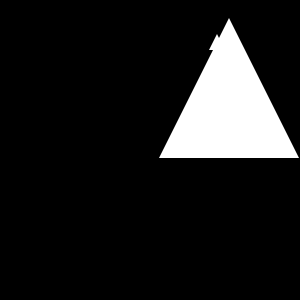triangle: (159, 18, 299, 158), (209, 34, 225, 50)
